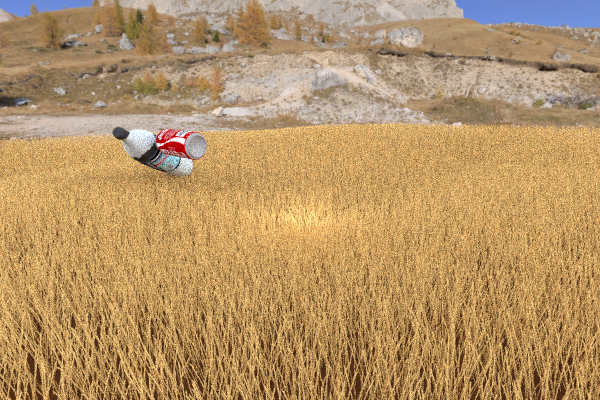bottle: (112, 126, 193, 178)
can: (155, 128, 206, 159)
